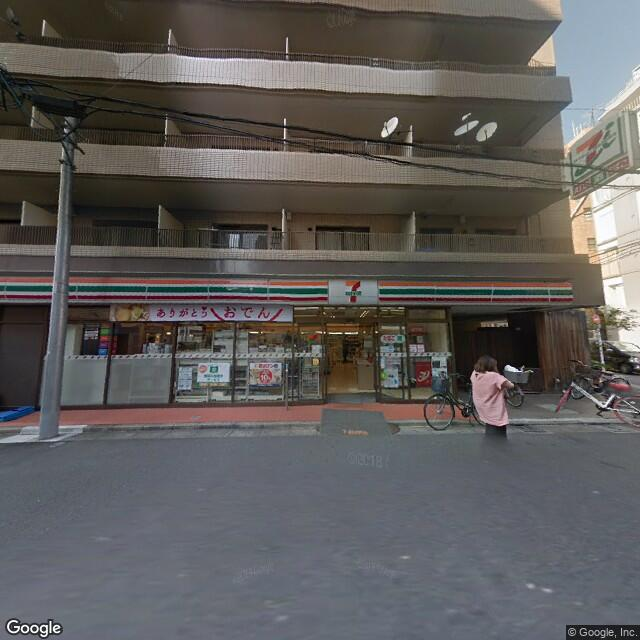7-eleven: (1, 271, 578, 309), (568, 110, 628, 183)
